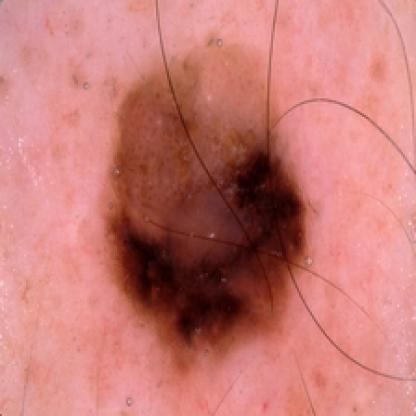malignant: (110, 65, 318, 355)
